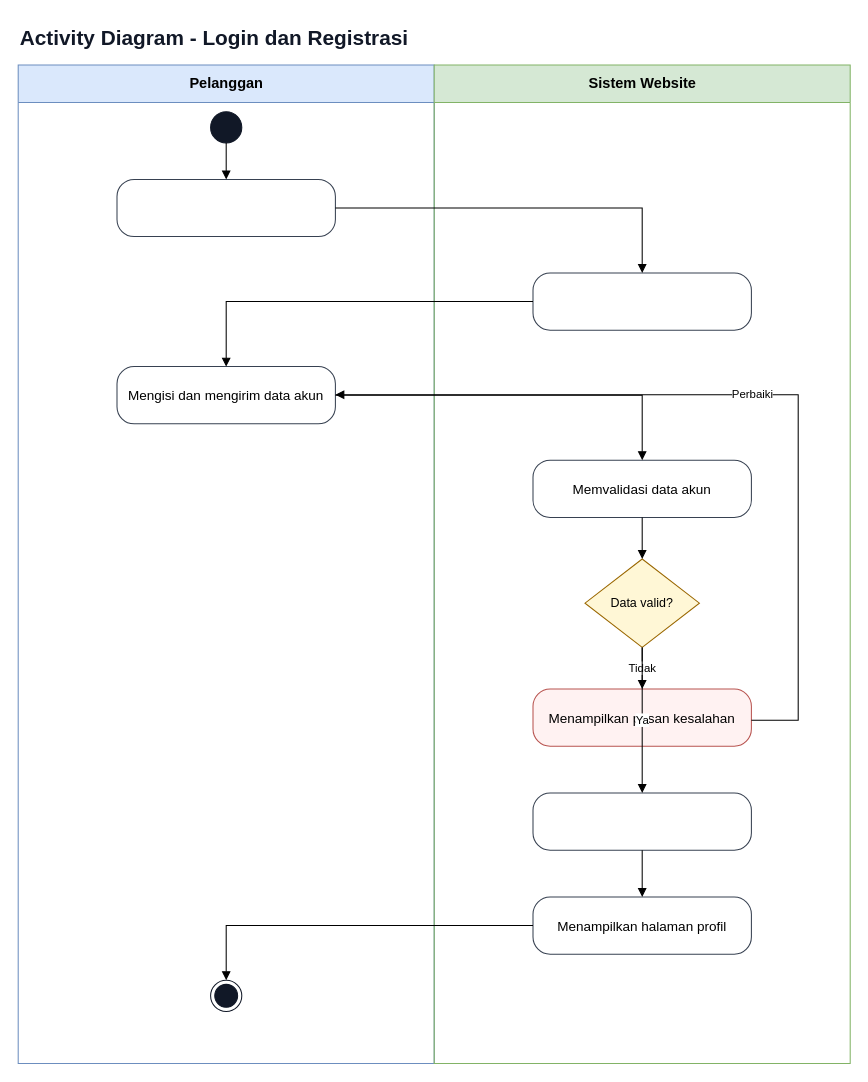
The diagram is 868 pixels wide and 1082 high, and some of its shapes have lost their labels. Each missing label, with the box of its shape:
Memilih Login atau Registrasi: (116, 178, 335, 237)
Menampilkan formulir: (532, 272, 751, 330)
Menyimpan akun atau sesi login: (532, 792, 751, 850)
